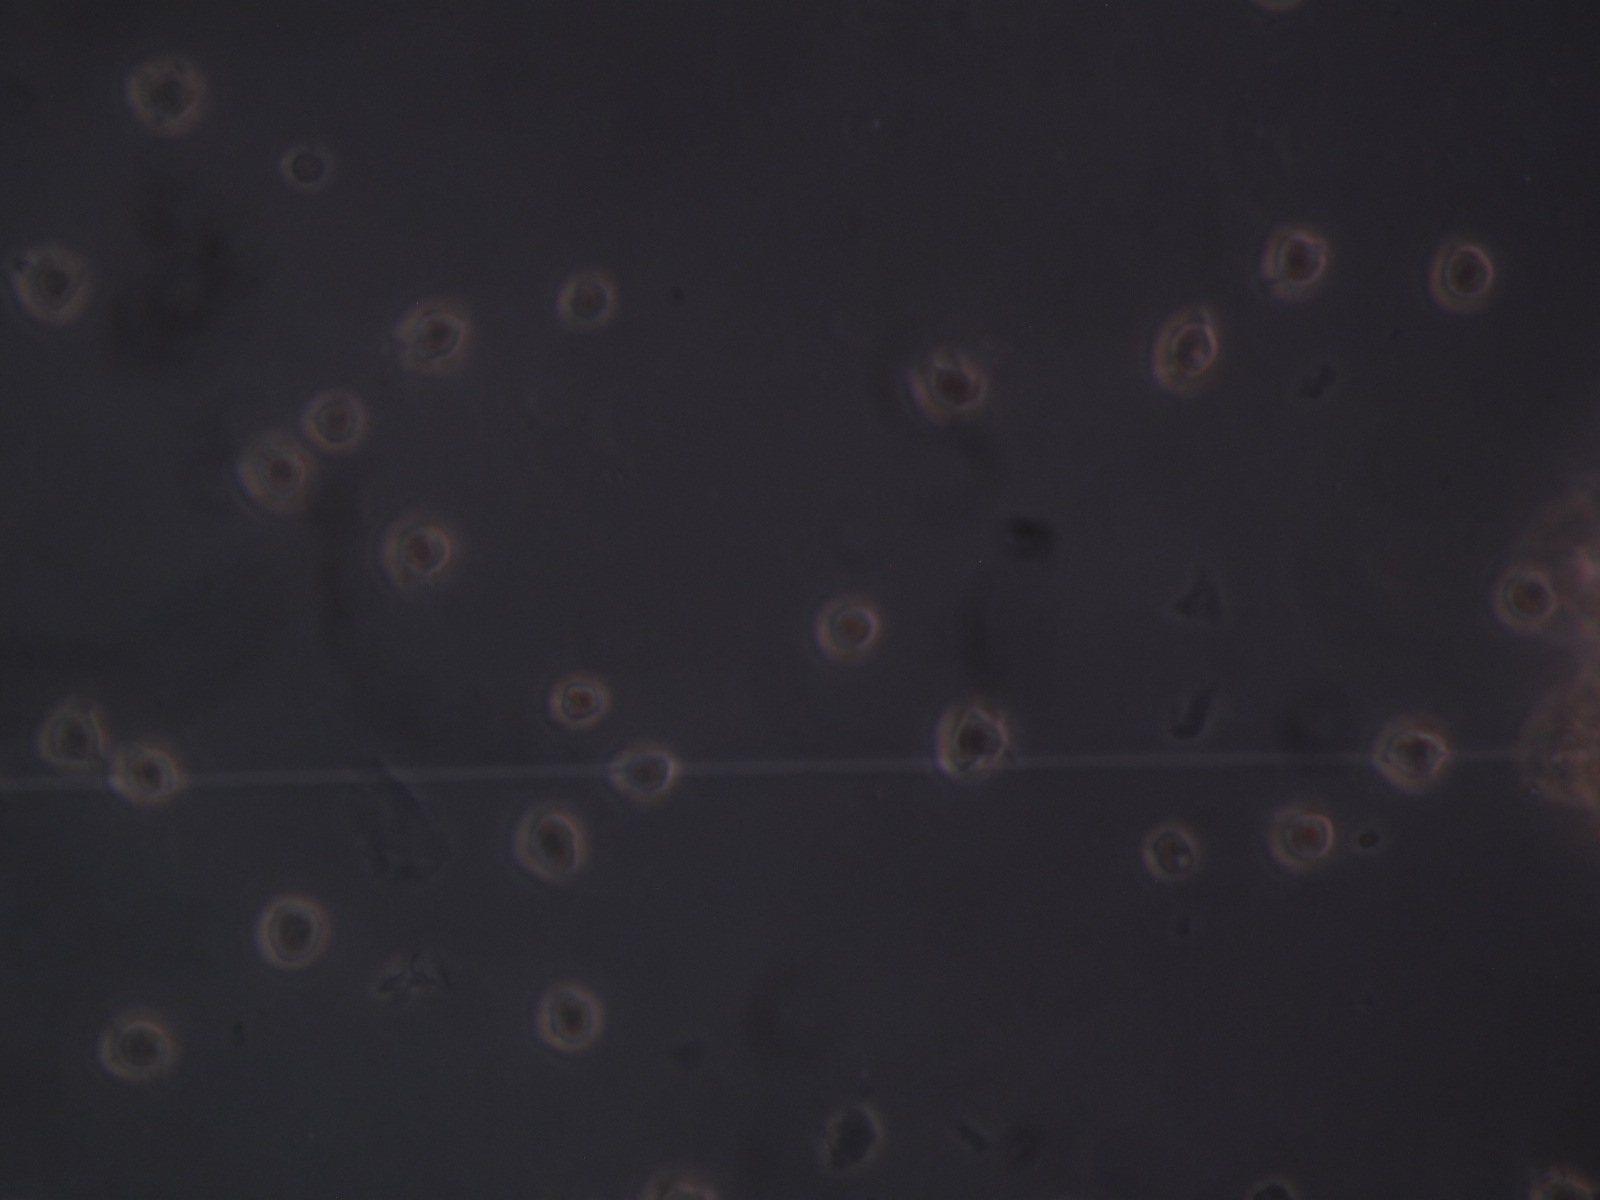hemo: (234, 434, 316, 514), (935, 698, 1013, 782), (1373, 713, 1445, 792), (130, 59, 204, 134), (16, 243, 86, 323), (380, 516, 450, 592), (1151, 313, 1216, 395), (260, 897, 330, 971), (517, 805, 586, 880), (1429, 236, 1495, 313), (394, 305, 469, 373), (100, 1016, 176, 1078), (538, 979, 603, 1051), (1269, 805, 1334, 874), (301, 386, 367, 454), (1269, 229, 1327, 305), (910, 358, 984, 415), (113, 742, 180, 804), (43, 701, 105, 768), (1495, 566, 1556, 632), (816, 594, 879, 655), (609, 745, 675, 802), (1145, 823, 1202, 881), (551, 673, 609, 727), (562, 274, 615, 330), (283, 142, 335, 187)
